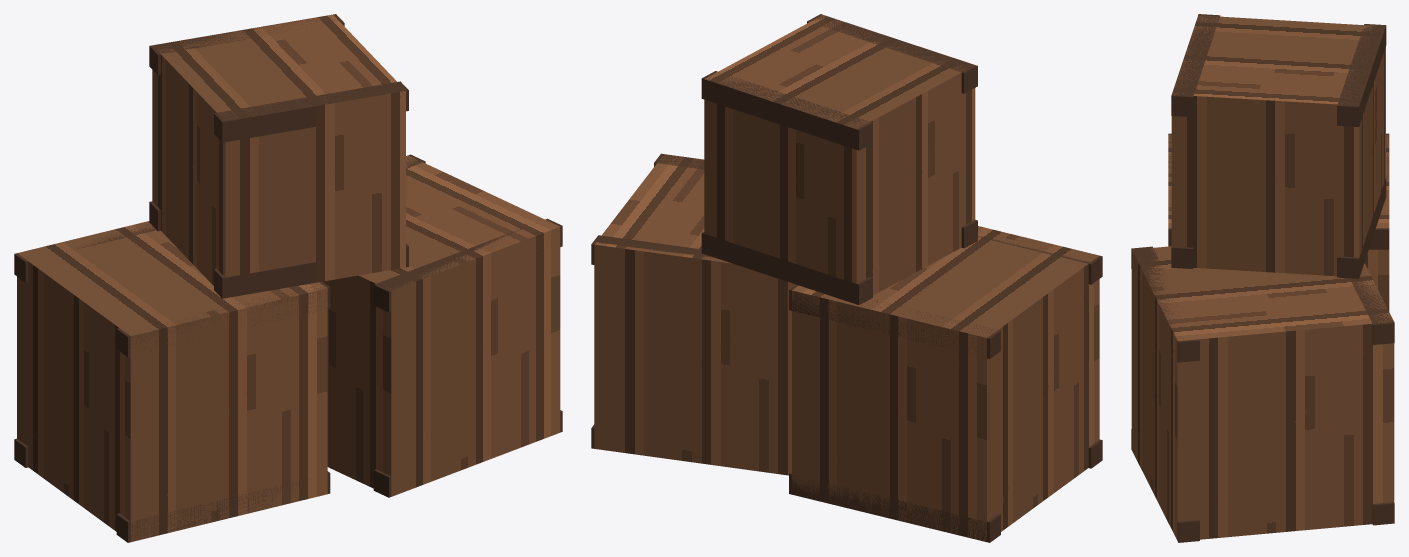
File: crates.glb
3 renders of one model, left to right at view 1: azimuth 30°, elevation 25°; view 2: azimuth 150°, elevation 25°; view 3: azimuth 270°, elevation 25°, orthographic. The views are drawn at different scales.
Parts seen in each view (by area): view 1: Crates; view 2: Crates; view 3: Crates.
Part boxes in pixels (<box>): Crates: <box>14,14,562,542</box>; Crates: <box>591,14,1102,542</box>; Crates: <box>1131,14,1394,542</box>.
Size of the model in its own units: 1.56 by 1.3 by 0.8343.
2 materials, 1 textured.
